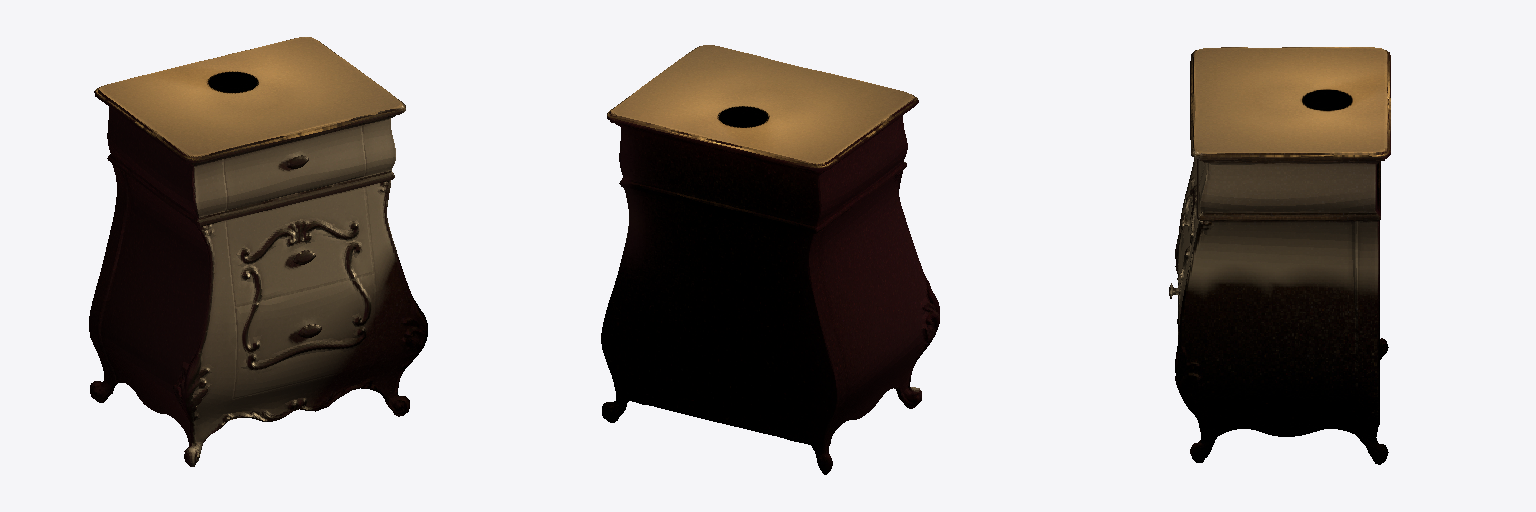
3 renders of one model, left to right at view 1: azimuth 30°, elevation 25°; view 2: azimuth 150°, elevation 25°; view 3: azimuth 270°, elevation 25°, orthographic.
Visible parts, largest first — view 1: nightTable1Baked BedroomBakedTriExport; view 2: nightTable1Baked BedroomBakedTriExport; view 3: nightTable1Baked BedroomBakedTriExport.
Boxes of the visible parts, box(x1,y1,x2,y2) form: nightTable1Baked BedroomBakedTriExport: box(89, 37, 427, 466); nightTable1Baked BedroomBakedTriExport: box(601, 45, 939, 474); nightTable1Baked BedroomBakedTriExport: box(1169, 47, 1390, 464).
Bounding box in the file's own units: 0.7949 × 0.9629 × 0.6211.
1 materials, 1 textured.